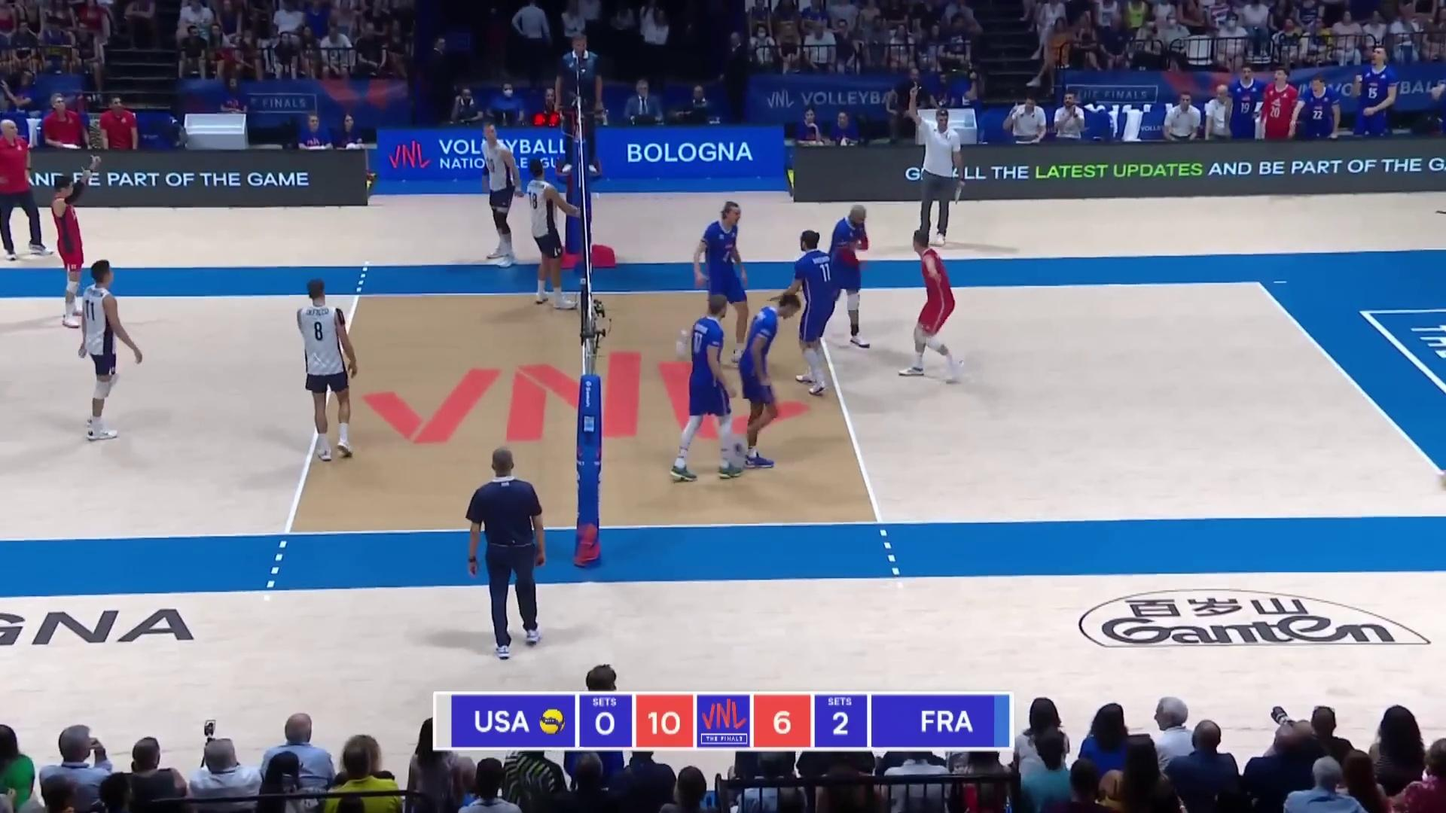player: (674, 295, 737, 484), (78, 260, 140, 442), (296, 280, 358, 461), (739, 293, 798, 465), (903, 231, 963, 381), (695, 203, 751, 361), (523, 159, 578, 310), (785, 231, 834, 394), (51, 173, 97, 330), (480, 124, 526, 267), (827, 206, 871, 351)
refree: (468, 453, 548, 655), (558, 36, 603, 175)
